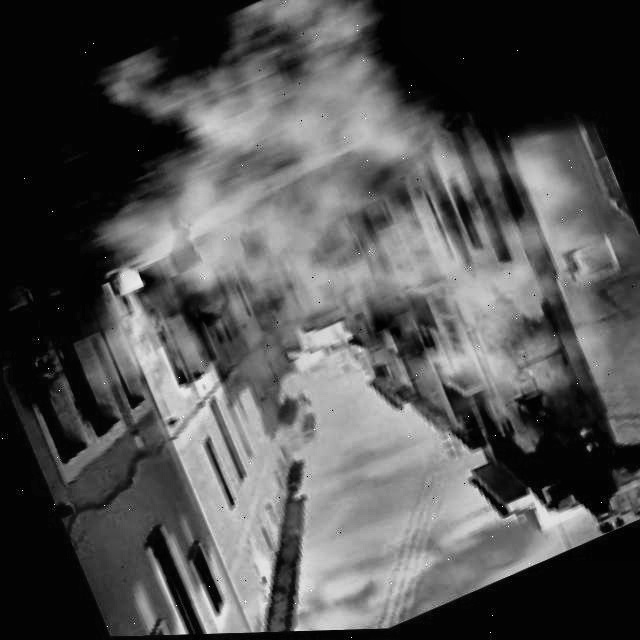Smoke: (1, 0, 640, 637)
